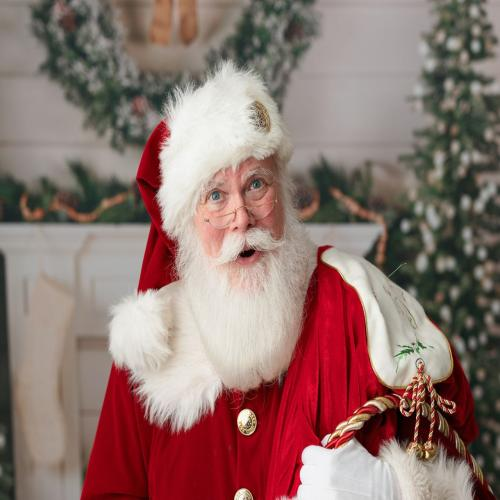Santa: (81, 63, 477, 500)
